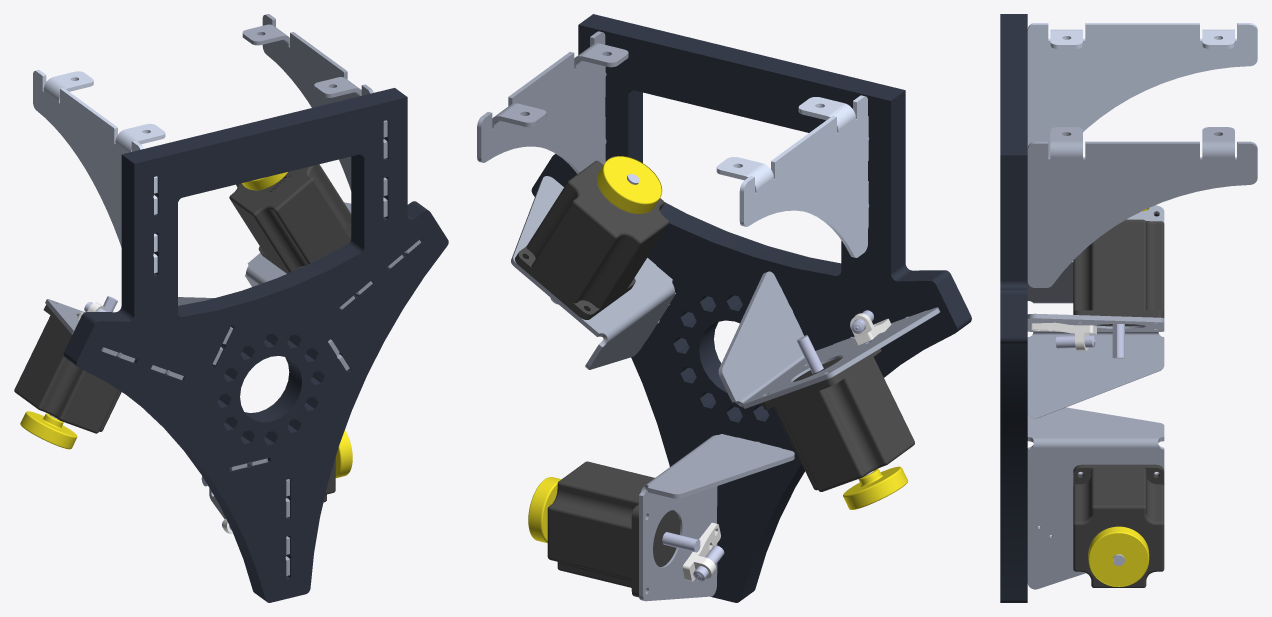
The picture shows the model from 3 angles, left to right: view 1: azimuth 30°, elevation 25°; view 2: azimuth 150°, elevation 25°; view 3: azimuth 270°, elevation 25°; orthographic projection. The views are drawn at different scales.
Visible parts, largest first — view 1: Polygon (×10); view 2: Polygon (×13); view 3: Polygon (×12).
Boxes of the visible parts, x1,y1,x2,y2 form: Polygon (×10): (14,14,448,602); Polygon (×13): (477,14,971,602); Polygon (×12): (1000,14,1257,602).
Size of the model in its own units: 29.96 by 36.43 by 16.94.
